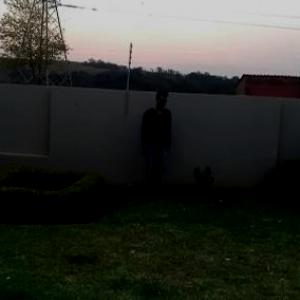follow: (139, 87, 171, 198)
